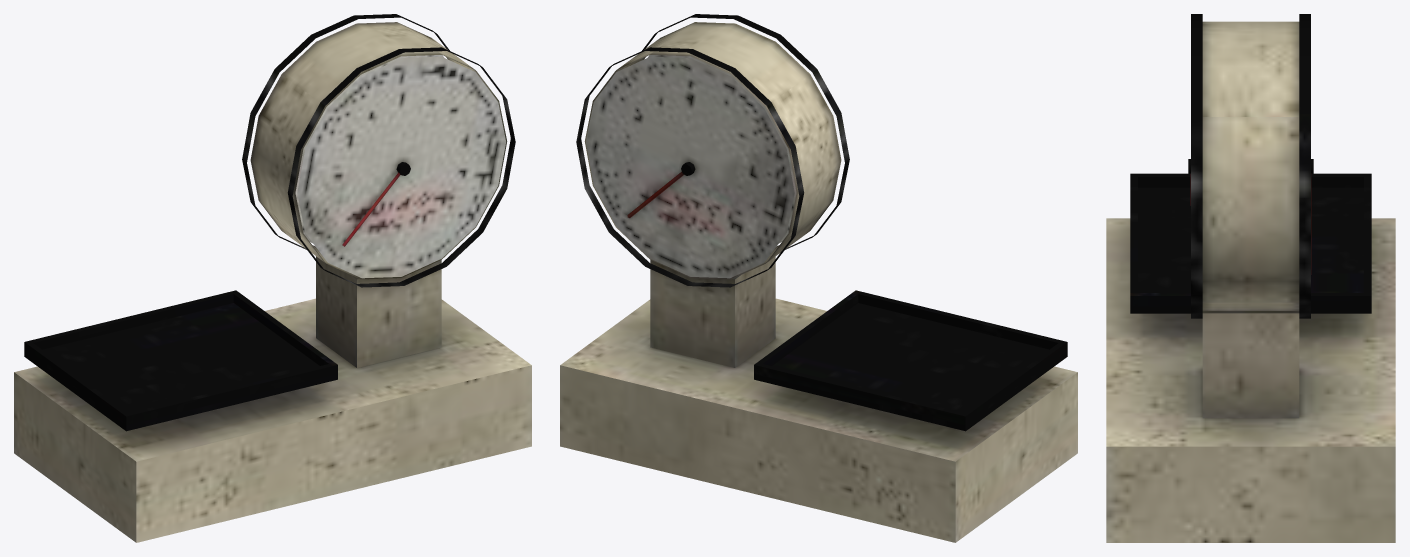
File: scales_dial_lod1_web.glb
3 renders of one model, left to right at view 1: azimuth 30°, elevation 25°; view 2: azimuth 150°, elevation 25°; view 3: azimuth 270°, elevation 25°, orthographic. The views are drawn at different scales.
Parts seen in each view (by area): view 1: ScalesDial_Body; view 2: ScalesDial_Body; view 3: ScalesDial_Body.
Part boxes in pixels (left/top/right/bottom): ScalesDial_Body: left=14, top=14, right=531, bottom=542; ScalesDial_Body: left=560, top=14, right=1077, bottom=542; ScalesDial_Body: left=1106, top=14, right=1395, bottom=542.
Bounding box in the file's own units: 0.588 × 0.528 × 0.3.
1 material, 1 textured.
